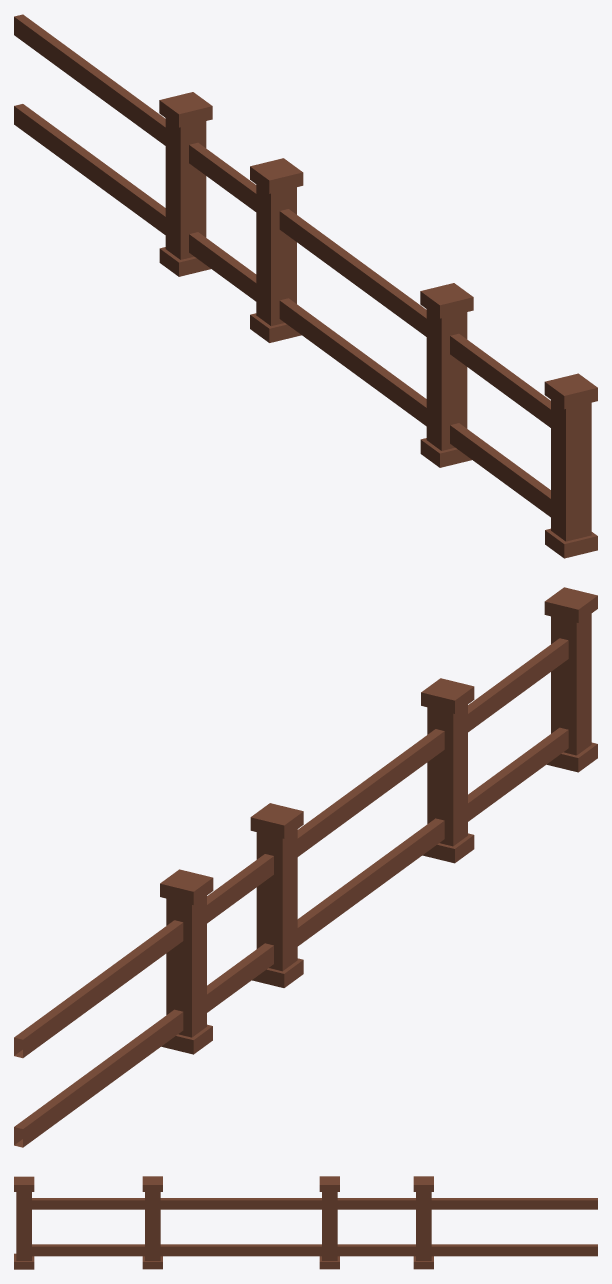
The model's file is cit.fbx.
3 renders of one model, top to bottom at view 1: azimuth 30°, elevation 25°; view 2: azimuth 150°, elevation 25°; view 3: azimuth 270°, elevation 25°, orthographic. The views are drawn at different scales.
Visible parts, largest first — view 1: Text.002; view 2: Text.002; view 3: Text.002.
Boxes of the visible parts, <box> form: Text.002: <box>14,14,597,558</box>; Text.002: <box>14,587,597,1147</box>; Text.002: <box>14,1176,597,1269</box>.
Bounding box in the file's own units: 87.04 × 396 × 2480.
